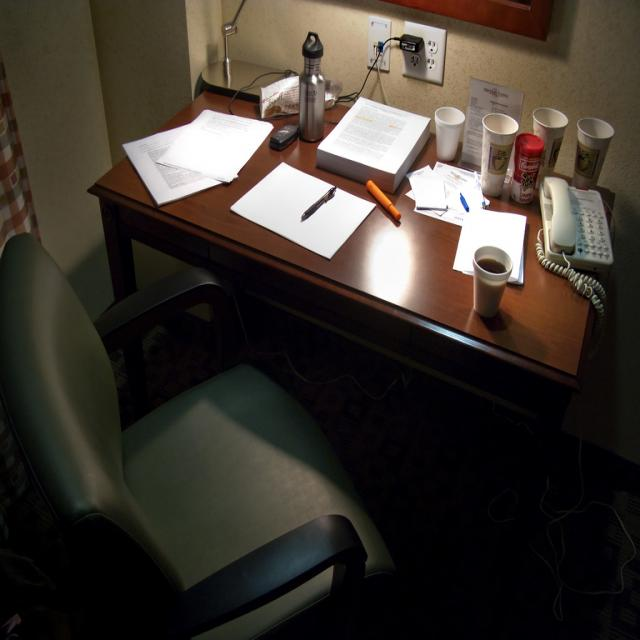chair: (0, 232, 388, 636)
desk: (87, 65, 614, 639)
